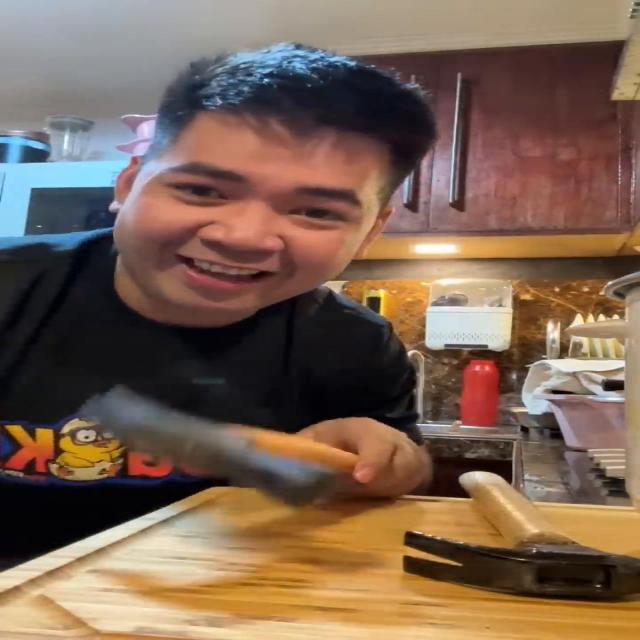hammer: (78, 381, 364, 508), (401, 469, 640, 601)
